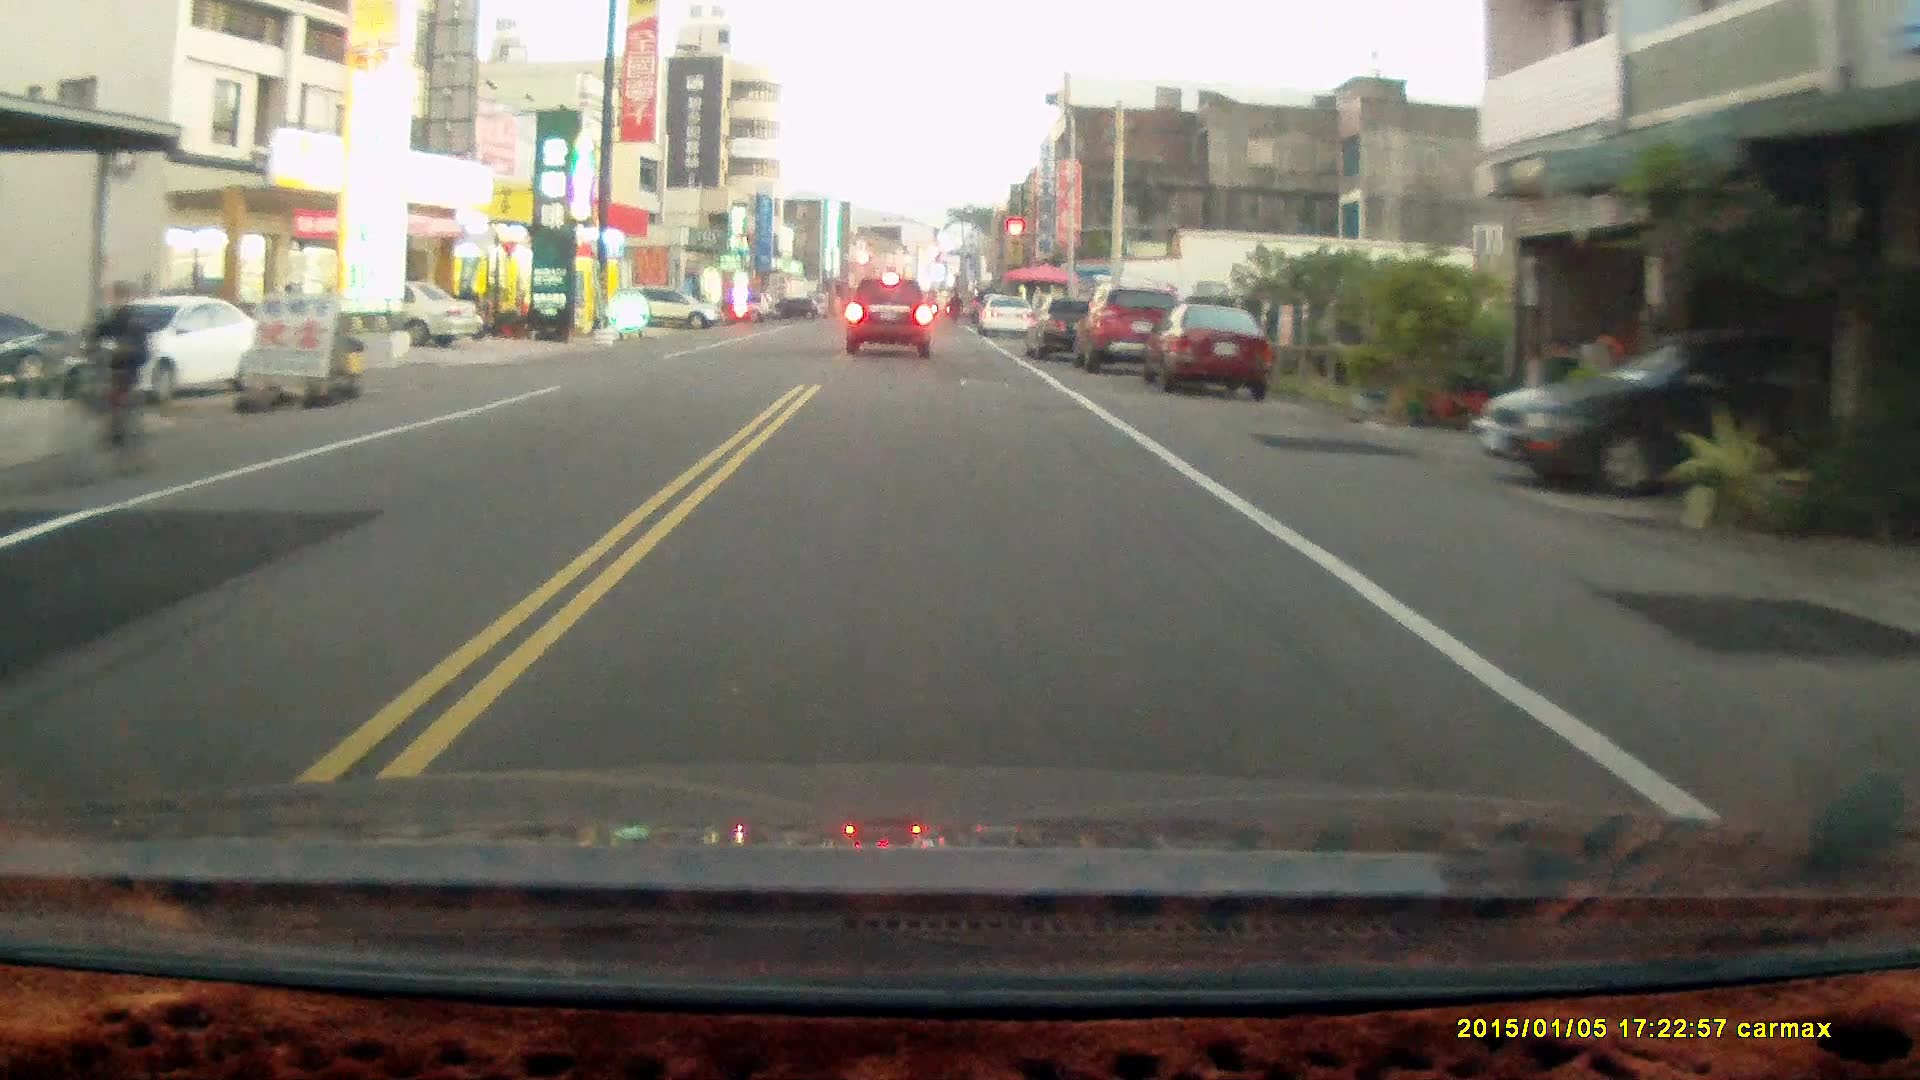rider: (43, 280, 158, 500)
vehicle: (1471, 321, 1910, 495), (59, 296, 275, 403), (1137, 301, 1280, 400), (304, 281, 482, 355), (1077, 284, 1187, 375), (844, 277, 933, 361), (1025, 293, 1123, 359), (628, 290, 723, 333)
